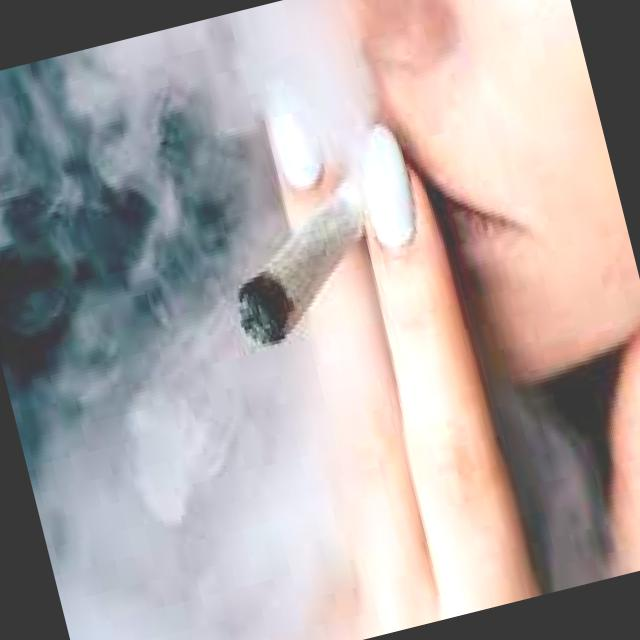smoke: (210, 175, 394, 348)
